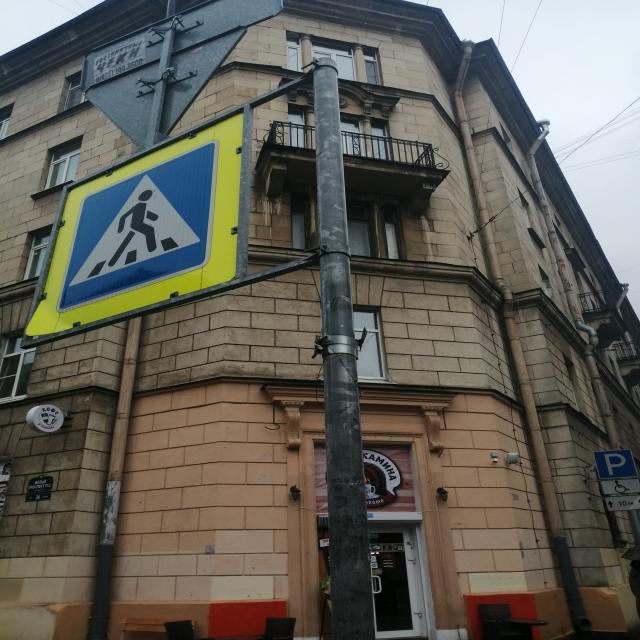road sign: (29, 111, 243, 336), (594, 450, 638, 480), (601, 478, 639, 496), (606, 500, 639, 512)
